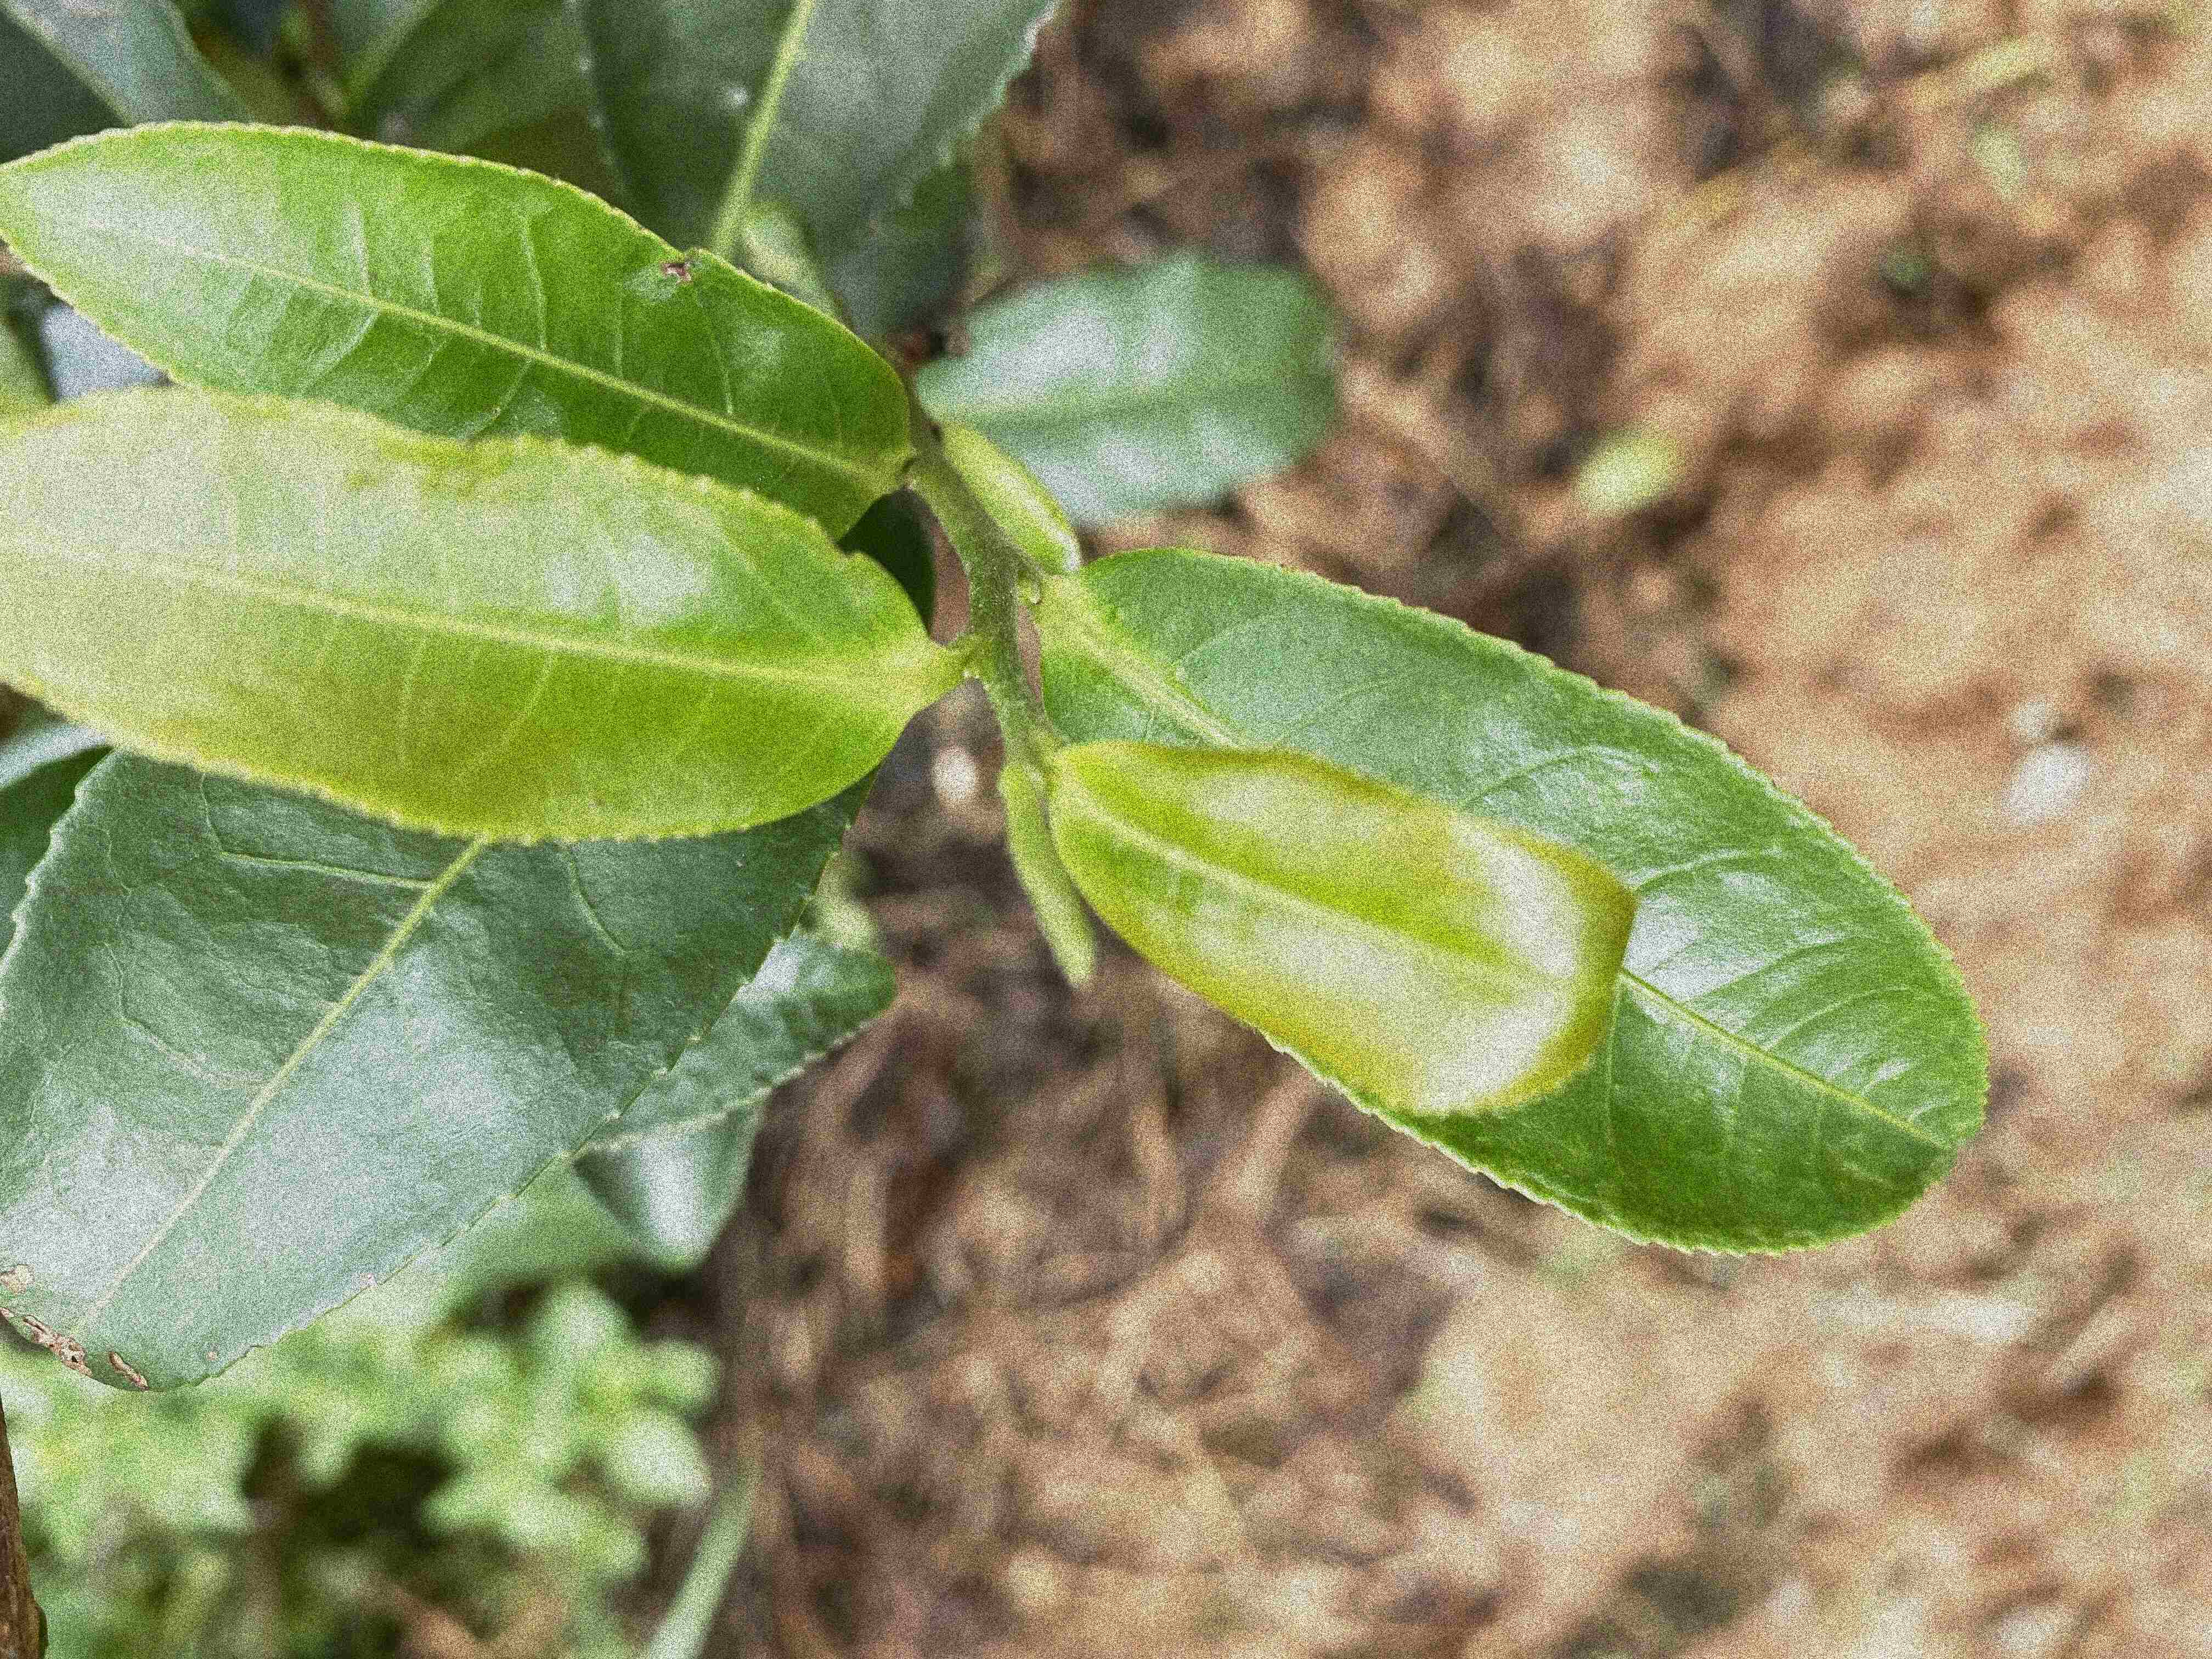healthy: (1042, 547, 1994, 1262), (5, 392, 935, 842), (1040, 737, 1642, 1117)
tanju_low: (3, 756, 892, 1394), (0, 117, 914, 538)
